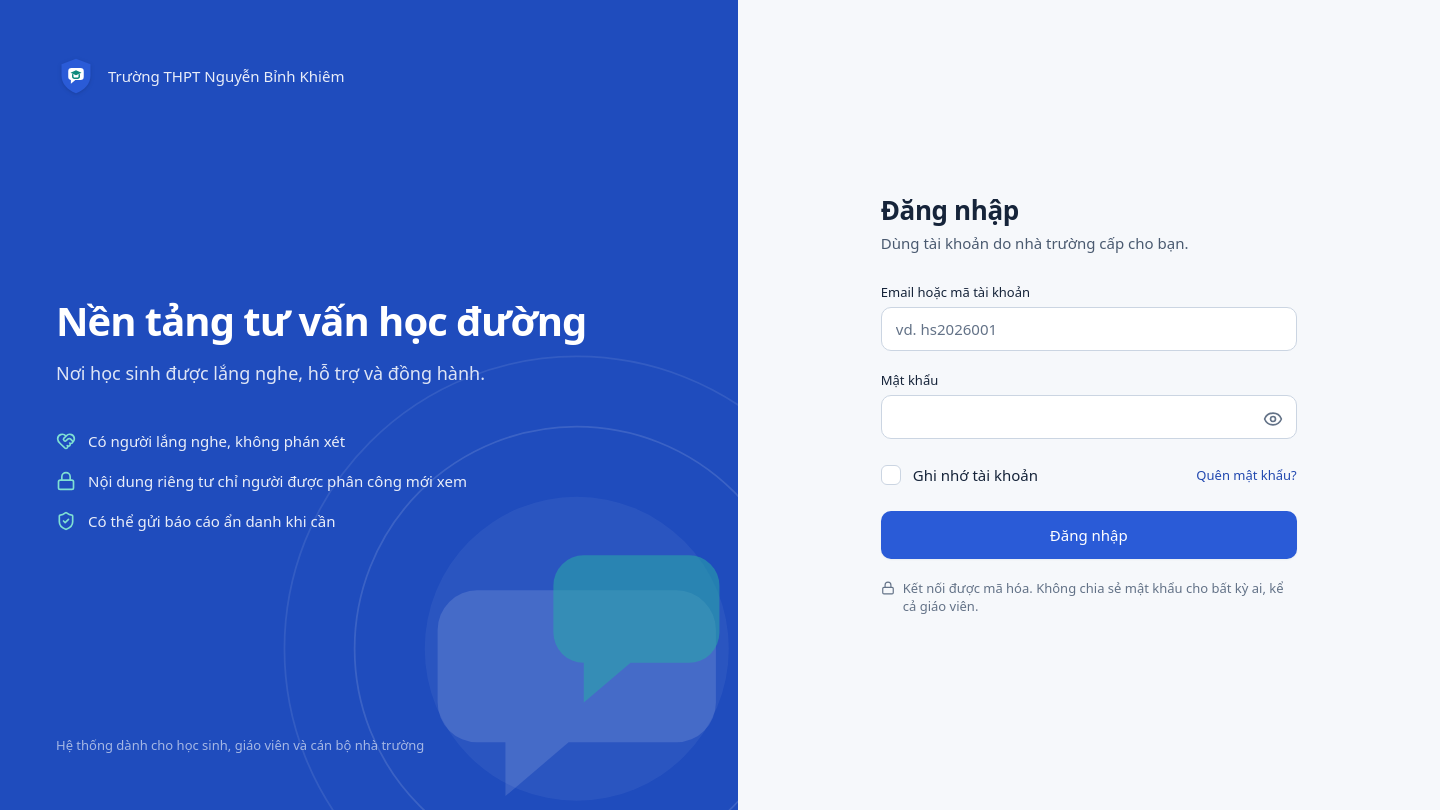
Test: điều hướng và bảo vệ route › báo lỗi rõ ràng khi sai mật khẩu
Type "hs2026001" into the field labelled "Email hoặc mã tài khoản" at [1089, 329], box [881,307,1297,351]
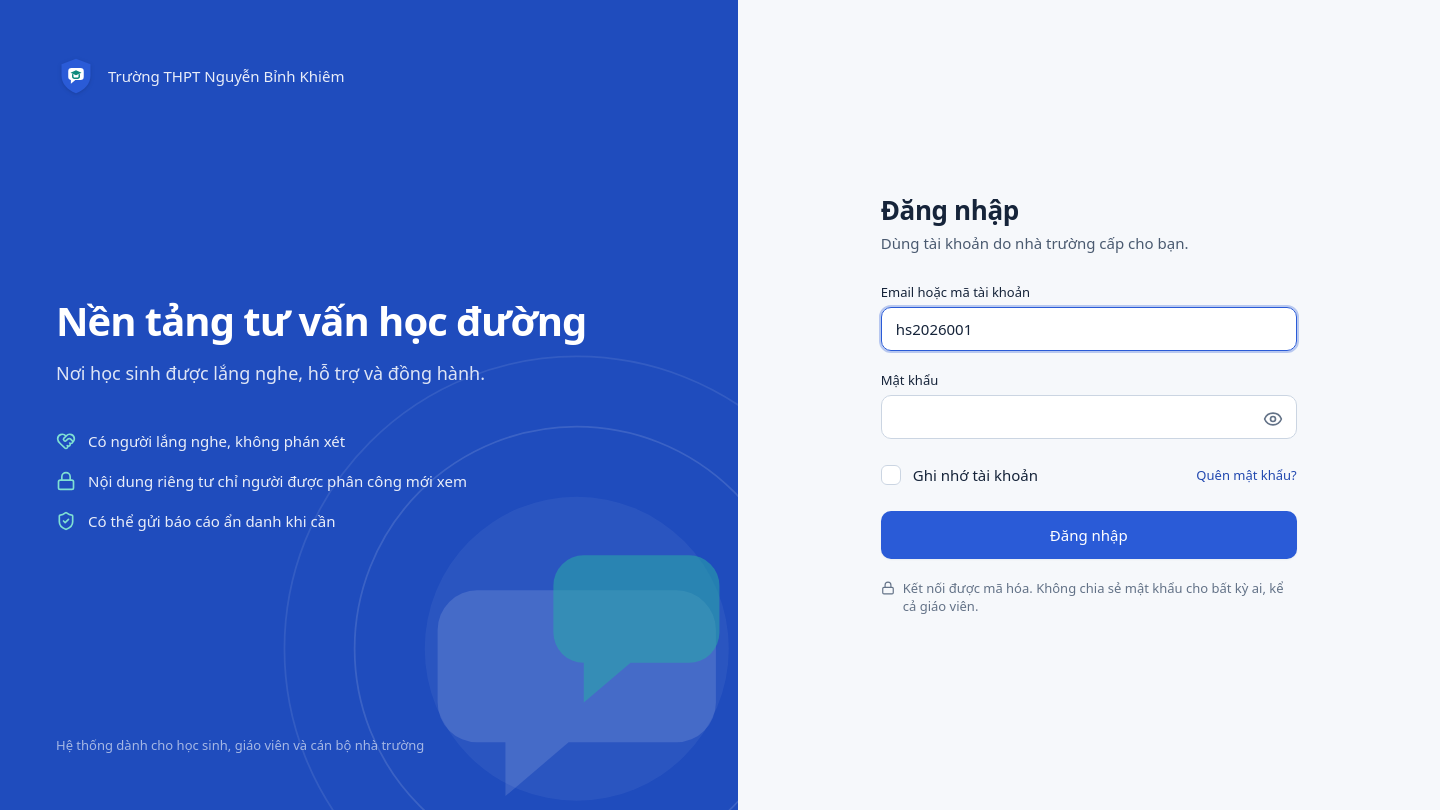
Type "sai-mat-khau" into the password field labelled "Mật khẩu" at [1089, 417], box [881,395,1297,439]
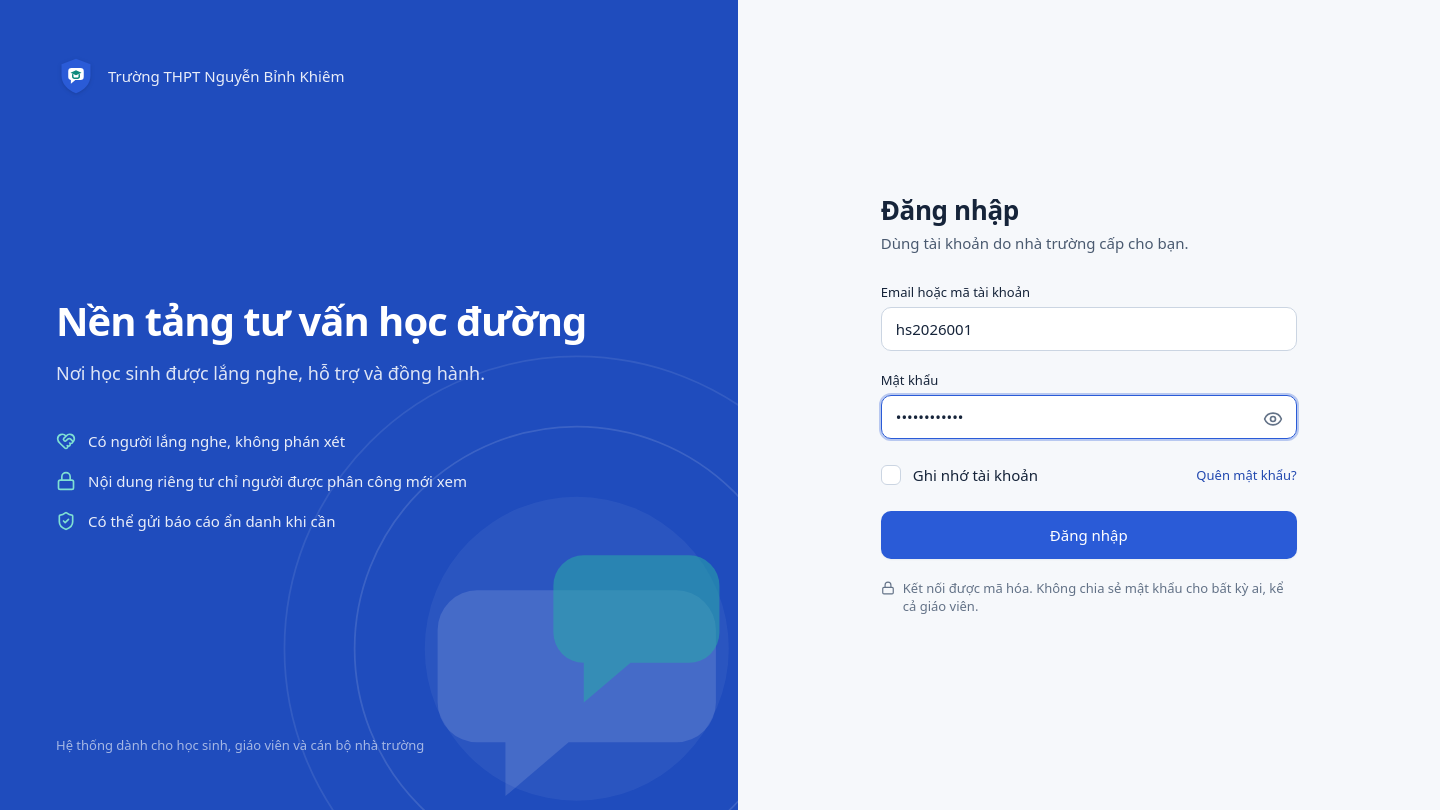
Click the button "Đăng nhập" at [1089, 535], box [881,511,1297,559]
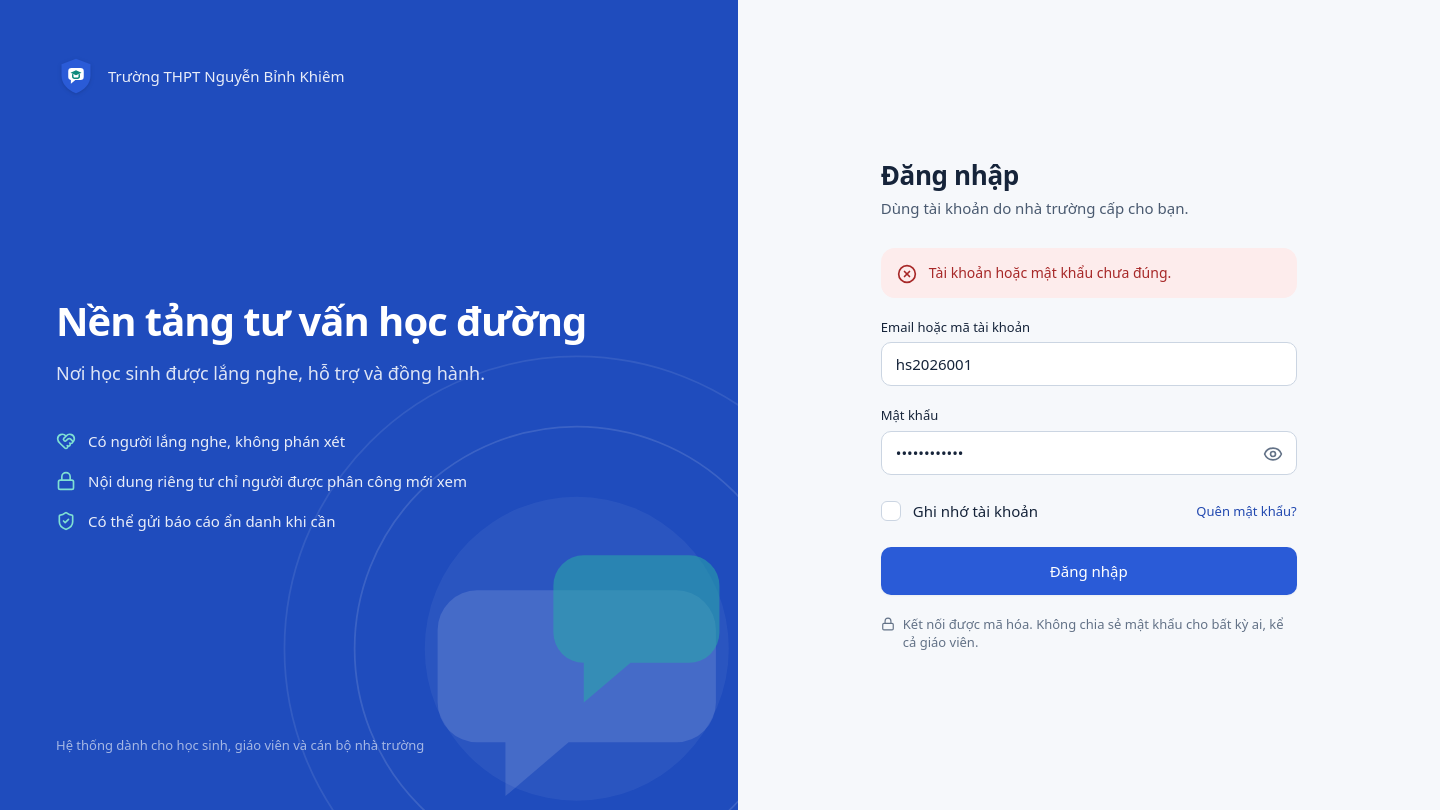
Result: the message reads "Tài khoản hoặc mật khẩu chưa đúng." at [929,262,1171,282]
